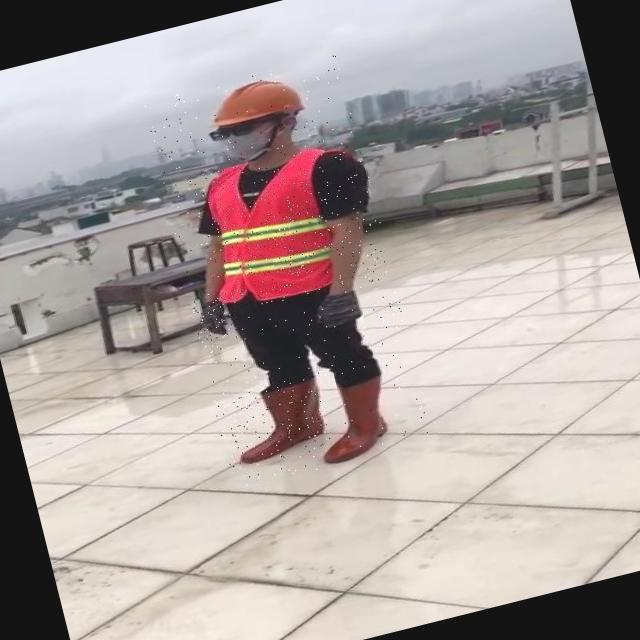boots: (210, 374, 332, 471), (303, 365, 407, 468)
gloves: (133, 263, 254, 381), (306, 271, 375, 339)
helmet: (202, 67, 312, 132)
vest: (187, 138, 382, 314)
